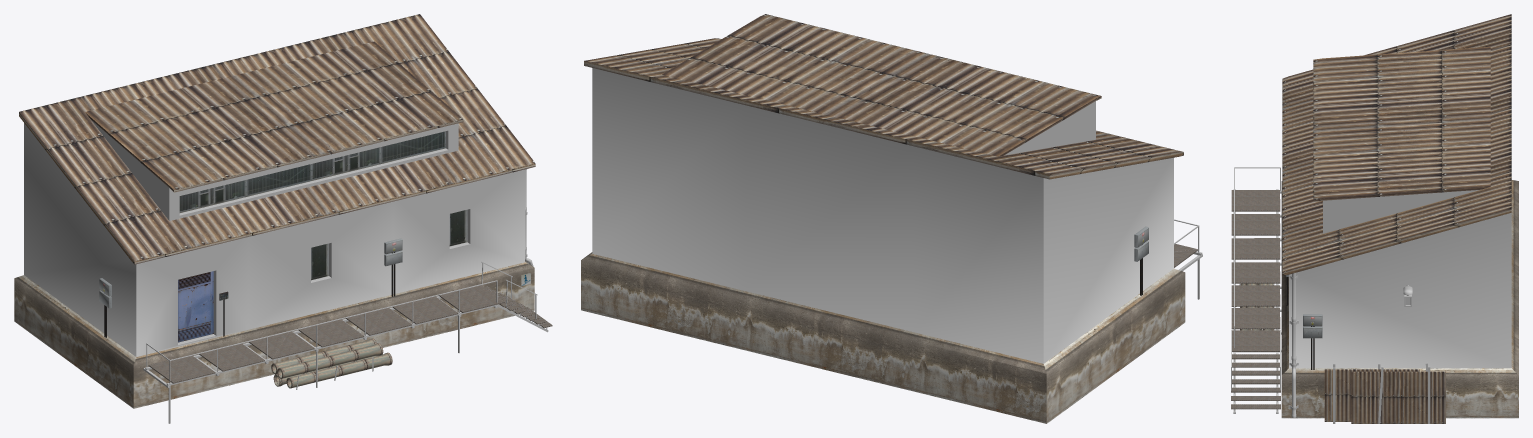
Rendered from house_entrance02_lod0.fbx.
3 renders of one model, left to right at view 1: azimuth 30°, elevation 25°; view 2: azimuth 150°, elevation 25°; view 3: azimuth 270°, elevation 25°, orthographic. The views are drawn at different scales.
Parts seen in each view (by area): view 1: Mesh Object; view 2: Mesh Object; view 3: Mesh Object.
Boxes of the visible parts, x1,y1,x2,y2 form: Mesh Object: [14, 14, 552, 423]; Mesh Object: [581, 14, 1202, 423]; Mesh Object: [1231, 14, 1518, 423].
Size of the model in its own units: 13.43 by 6.41 by 7.89.
